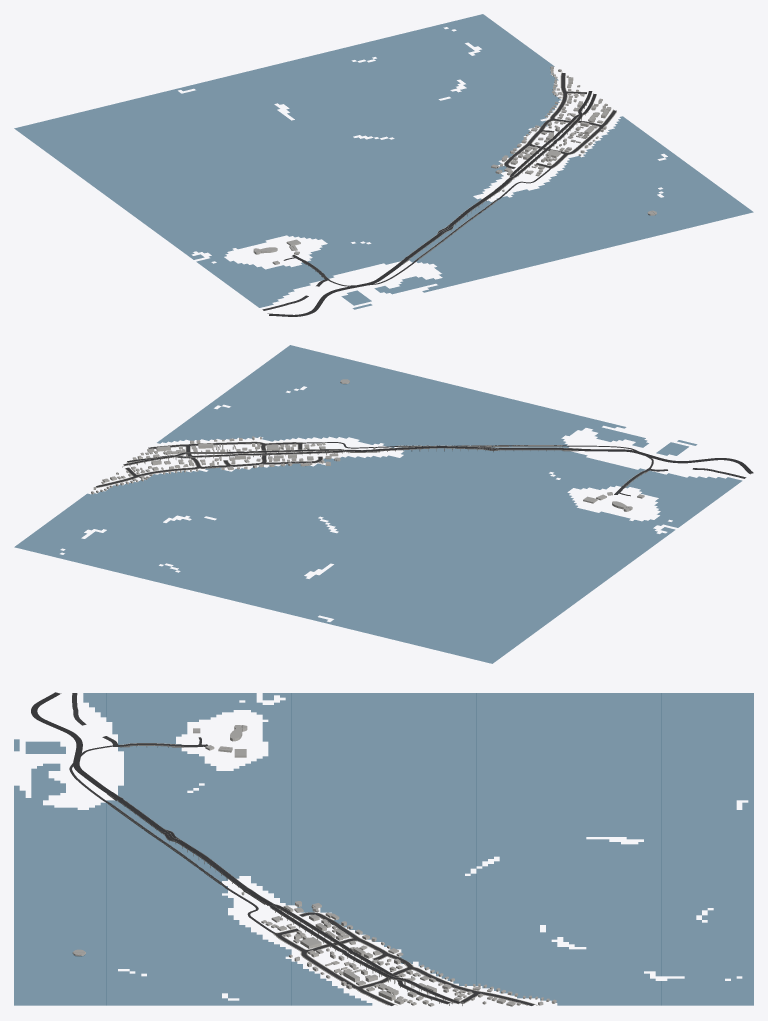
The model's file is chunk_6_8.glb.
The picture shows the model from 3 angles, top to bottom: view 1: azimuth 30°, elevation 25°; view 2: azimuth 150°, elevation 25°; view 3: azimuth 270°, elevation 25°; orthographic projection. The views are drawn at different scales.
Visible parts, largest first — view 1: Water_6_8, Roads_6_8, RoadSides_6_8, Buildings_6_8, Filler_6_8; view 2: Water_6_8, Roads_6_8, RoadSides_6_8, Filler_6_8, Buildings_6_8; view 3: Water_6_8, Roads_6_8, RoadSides_6_8, Filler_6_8, Buildings_6_8.
Boxes of the visible parts, x1,y1,x2,y2 form: Water_6_8: [14, 14, 753, 309]; Roads_6_8: [262, 73, 616, 316]; RoadSides_6_8: [302, 71, 616, 278]; Buildings_6_8: [253, 66, 656, 264]; Filler_6_8: [500, 69, 611, 176]; Water_6_8: [14, 345, 741, 663]; Roads_6_8: [96, 442, 753, 496]; RoadSides_6_8: [96, 441, 648, 488]; Filler_6_8: [93, 442, 338, 489]; Buildings_6_8: [91, 379, 644, 511]; Water_6_8: [14, 693, 753, 1005]; Roads_6_8: [31, 692, 534, 1005]; RoadSides_6_8: [107, 743, 537, 1005]; Filler_6_8: [261, 905, 543, 1006]; Buildings_6_8: [72, 725, 556, 1005].
Bounding box in the file's own units: 2059 × 18.18 × 2048.
